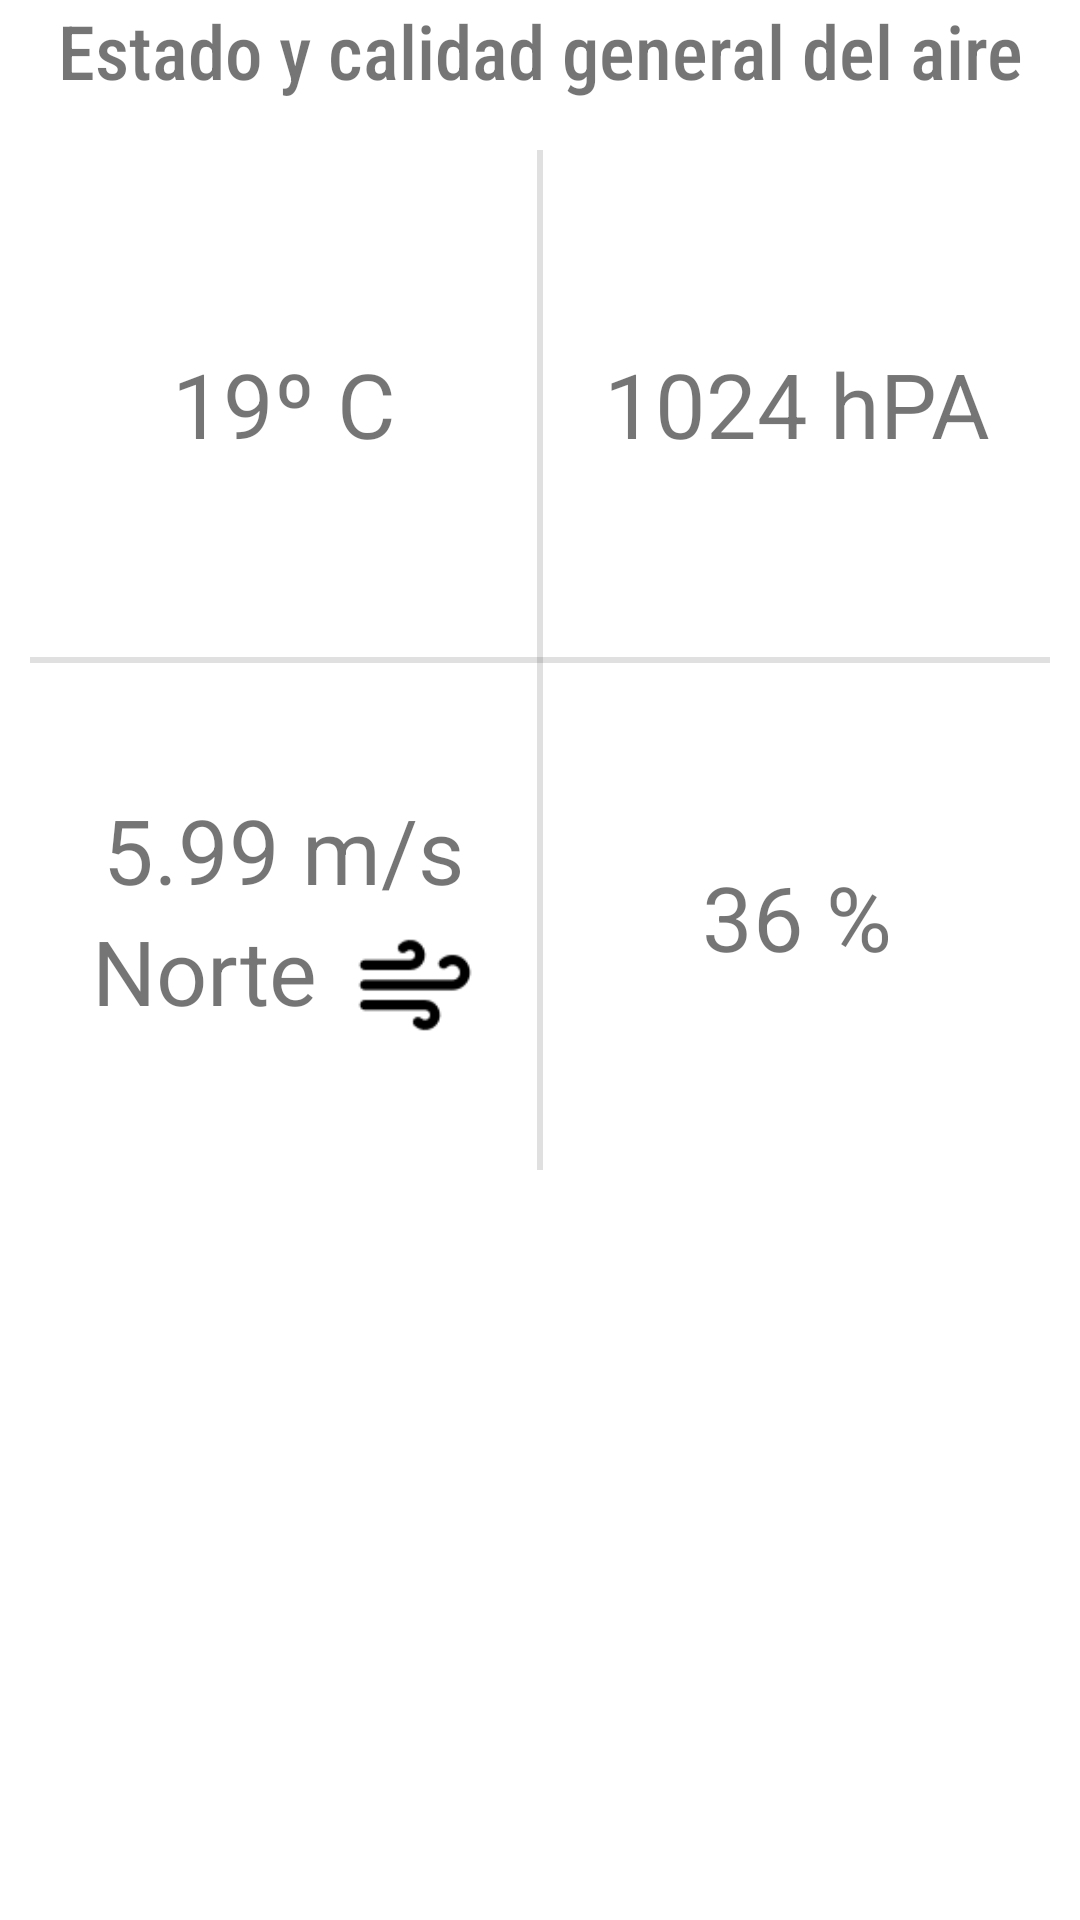

Icon bounding boxes for this 1080 x 1920 phone screenshot, format bbox(x1, y1, x2, y2):
wind: bbox(358, 939, 472, 1031)
